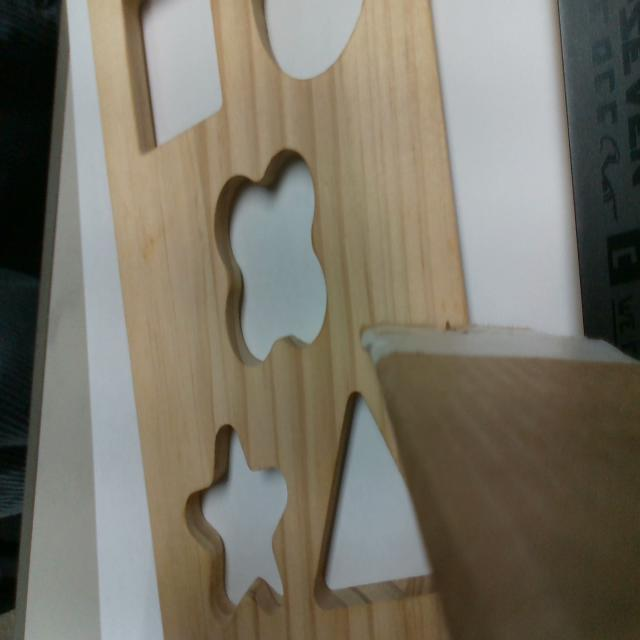circle: (250, 3, 362, 81)
flower: (213, 146, 325, 362)
square: (121, 2, 225, 159)
star: (185, 423, 286, 615)
triangle: (313, 386, 434, 615)
